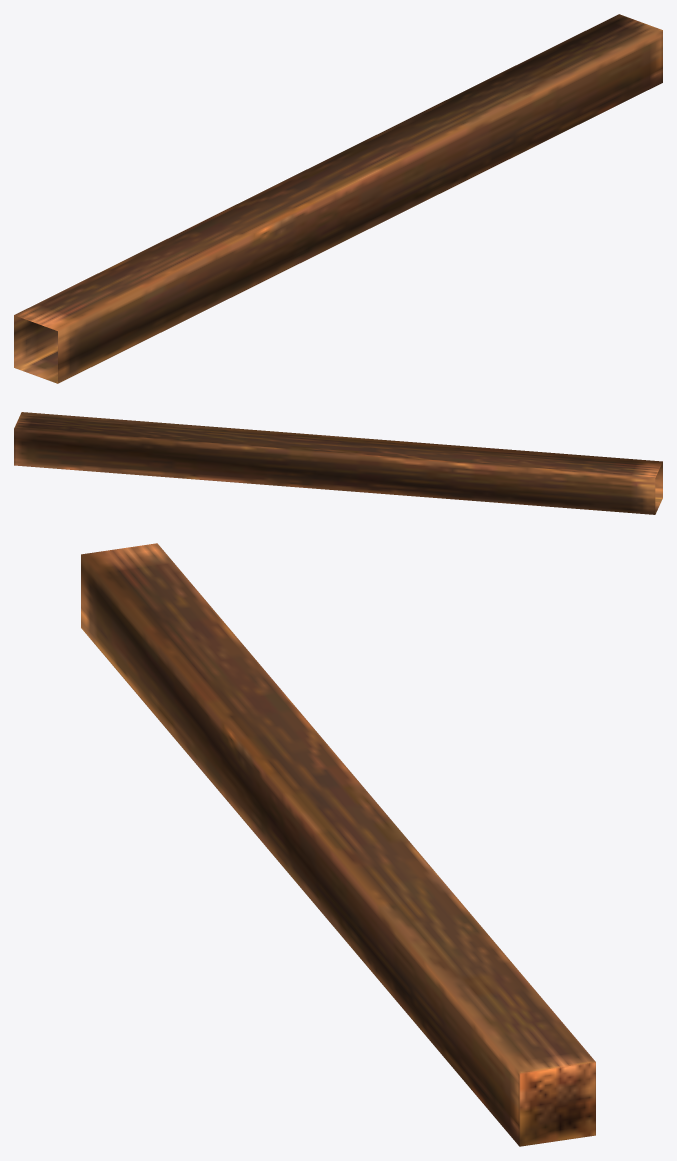
Rendered from SWORDLIGHT20_JAILBRACE86.fbx.
3 renders of one model, top to bottom at view 1: azimuth 30°, elevation 25°; view 2: azimuth 150°, elevation 25°; view 3: azimuth 270°, elevation 25°, orthographic. The views are drawn at different scales.
Parts seen in each view (by area): view 1: SWORDLIGHT20_JAILBRACE86; view 2: SWORDLIGHT20_JAILBRACE86; view 3: SWORDLIGHT20_JAILBRACE86.
Boxes of the visible parts, x1,y1,x2,y2 form: SWORDLIGHT20_JAILBRACE86: (14, 14, 662, 383); SWORDLIGHT20_JAILBRACE86: (14, 412, 662, 514); SWORDLIGHT20_JAILBRACE86: (81, 543, 595, 1146).
Size of the model in its own units: 61961 by 4000 by 25447.
Materials: 1 (1 with a texture image).
